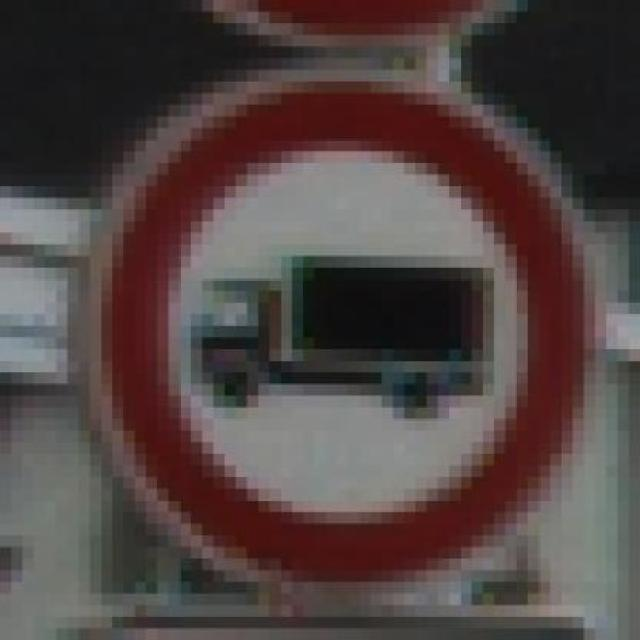Truck traffic is prohibited: (45, 47, 606, 605)
